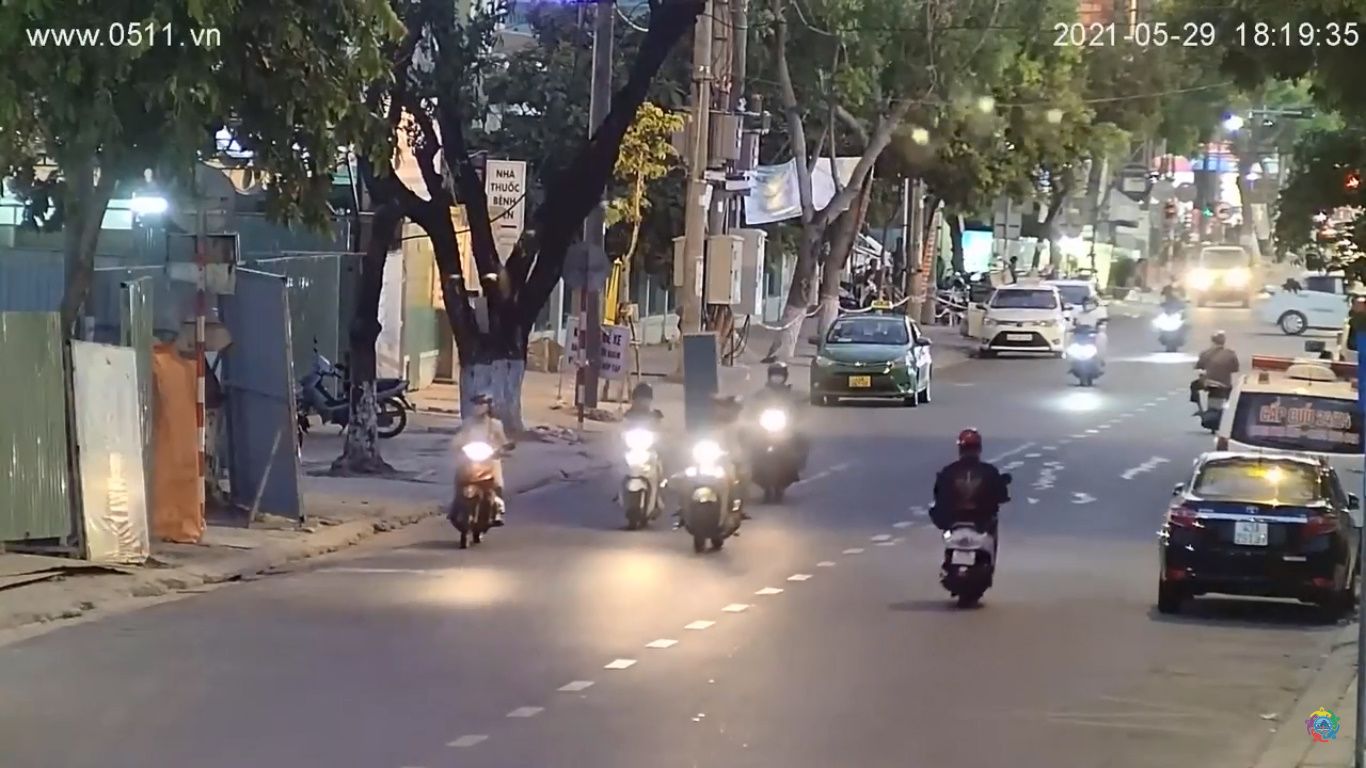car: (814, 305, 932, 409), (979, 274, 1069, 357)
